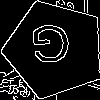G: (29, 24, 72, 72)
